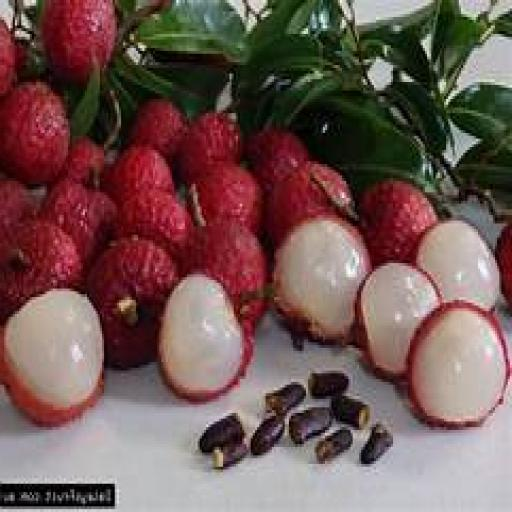lychee: (2, 289, 103, 427), (270, 215, 370, 348), (407, 303, 508, 427), (87, 238, 177, 370), (159, 275, 251, 401), (359, 263, 438, 379), (414, 221, 498, 308), (0, 83, 69, 186), (359, 182, 436, 265), (40, 0, 115, 82)
